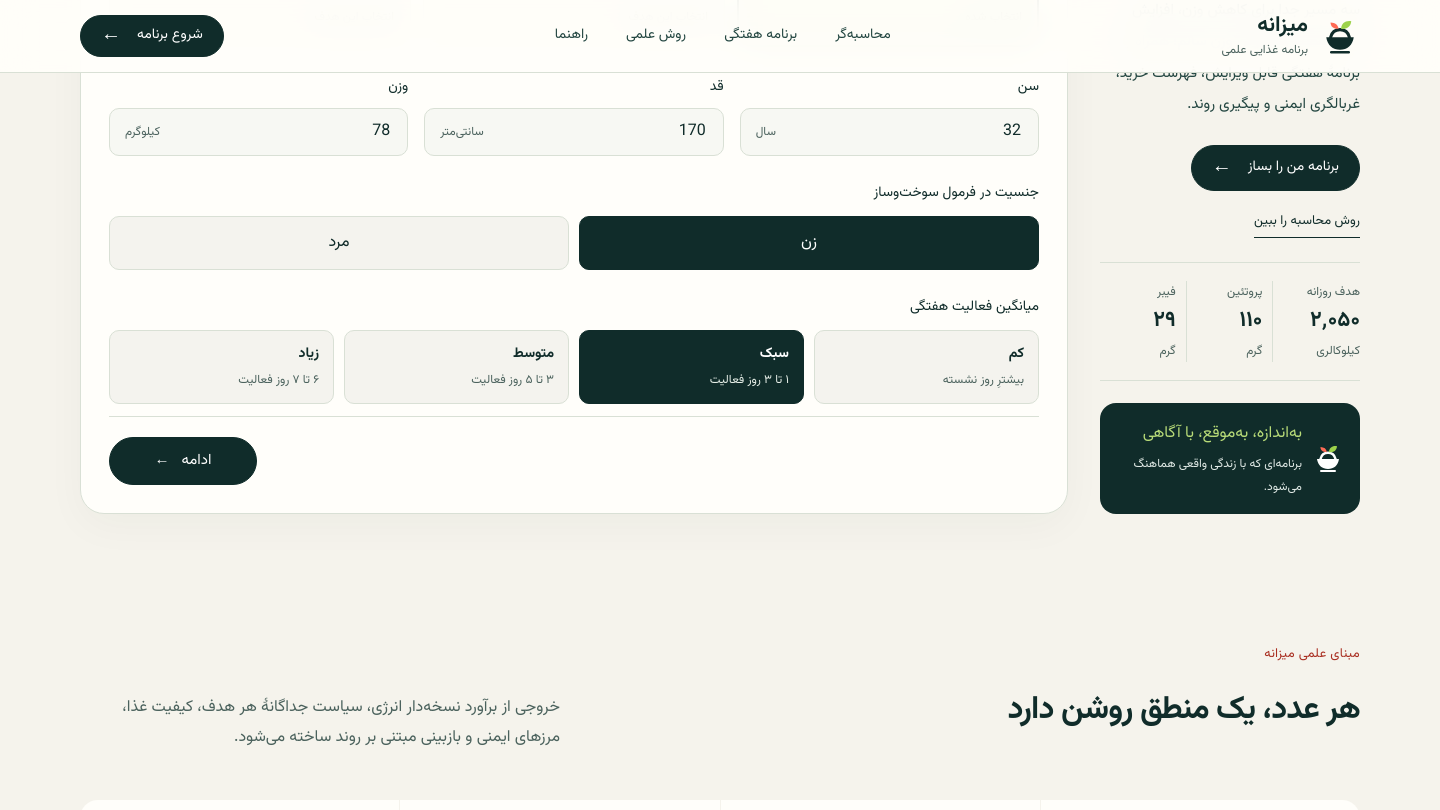
step navigation & validation › goes back a step with the بازگشت button without losing later-step field values
(page scrolled)
What coordinates should you click on to do the following:
click the button "ادامه ←"
I would click on:
 (183, 461)
Its box is [109, 437, 257, 485].
(page scrolled)
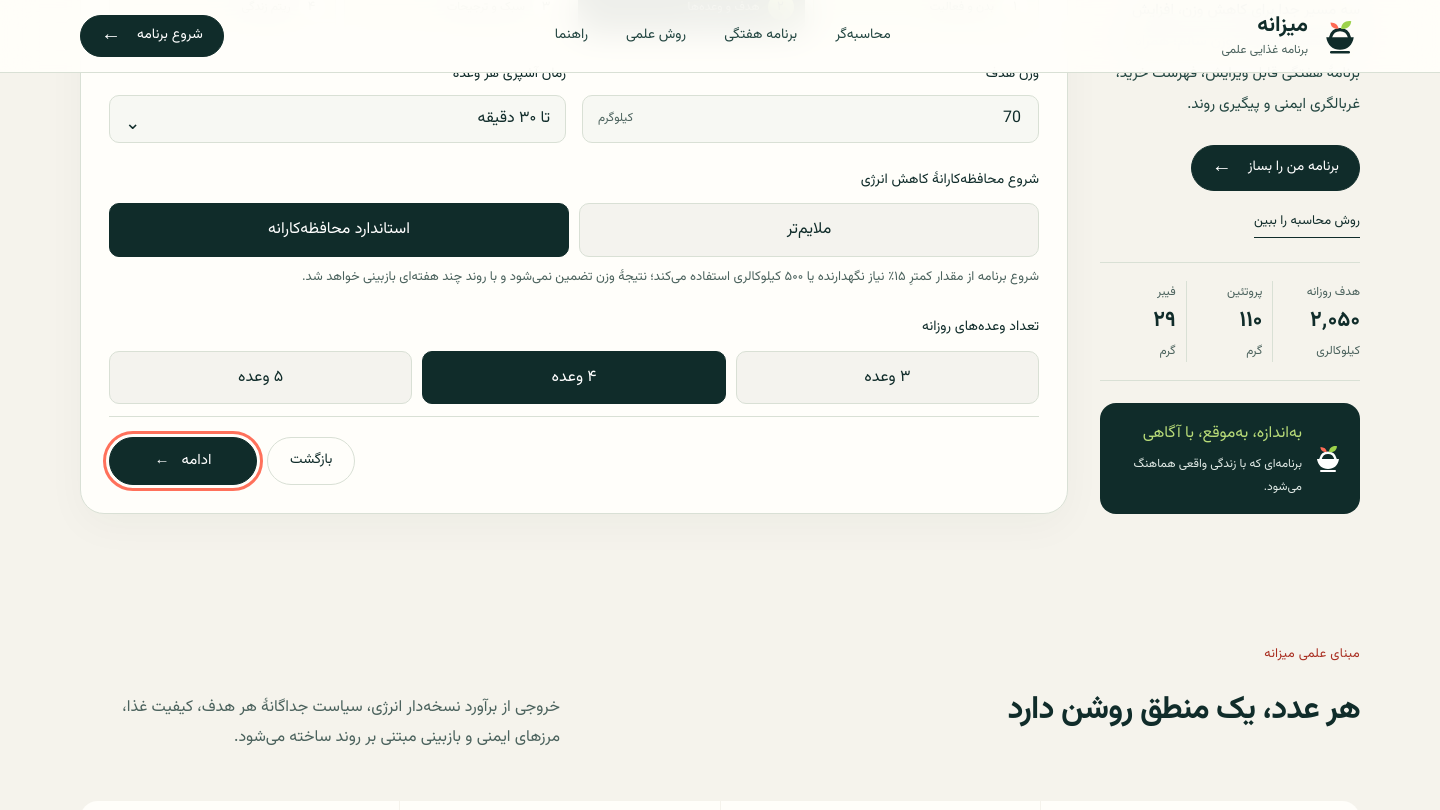
Expected: the number field named "وزن هدف به کیلوگرم" is shown, [633, 96, 1023, 142]
What coordinates should you click on to do the following:
click the button "بازگشت"
I would click on:
 (311, 461)
Its box is [267, 437, 355, 485].
(page scrolled)
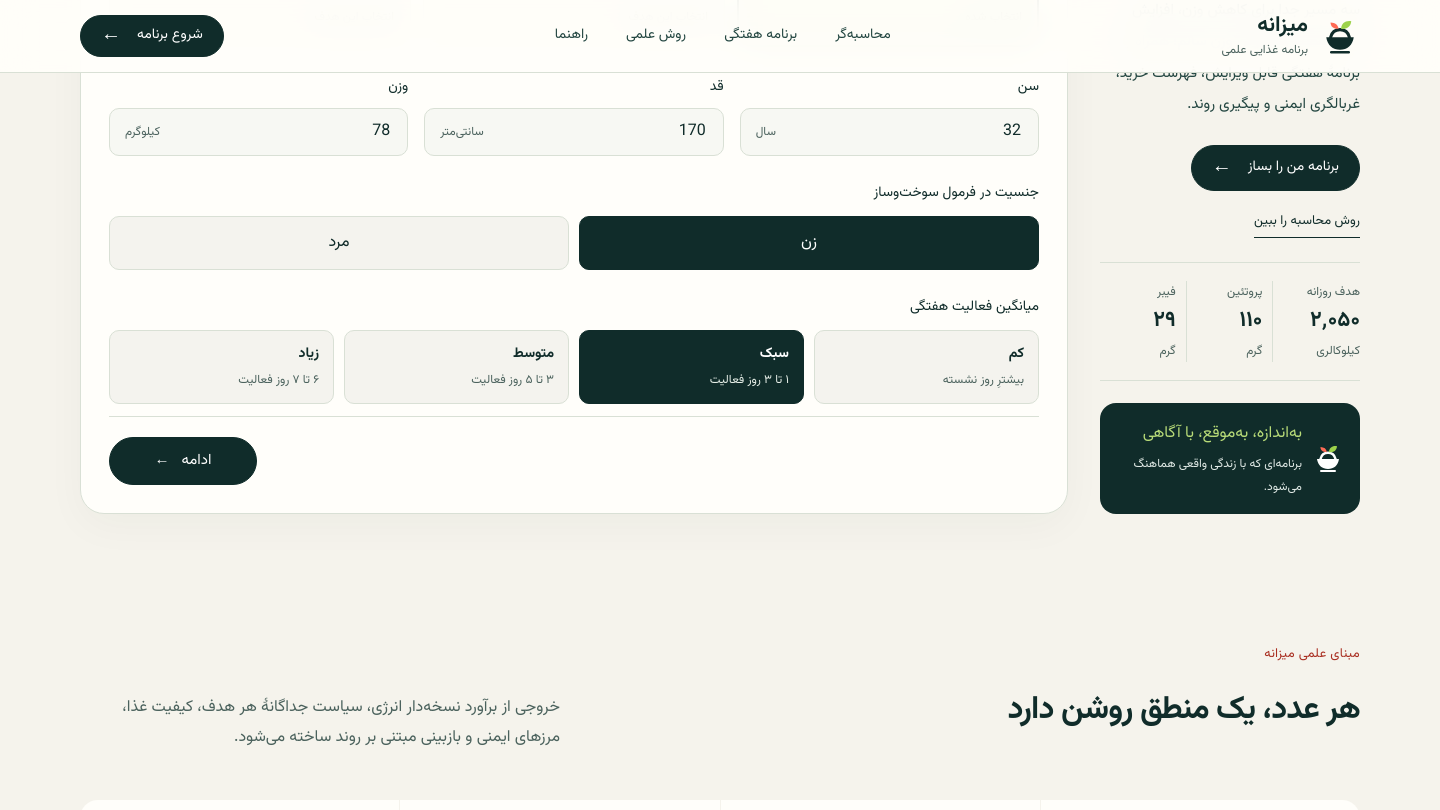
Expected: the number field named "سن به سال" is shown, [776, 109, 1023, 155]
